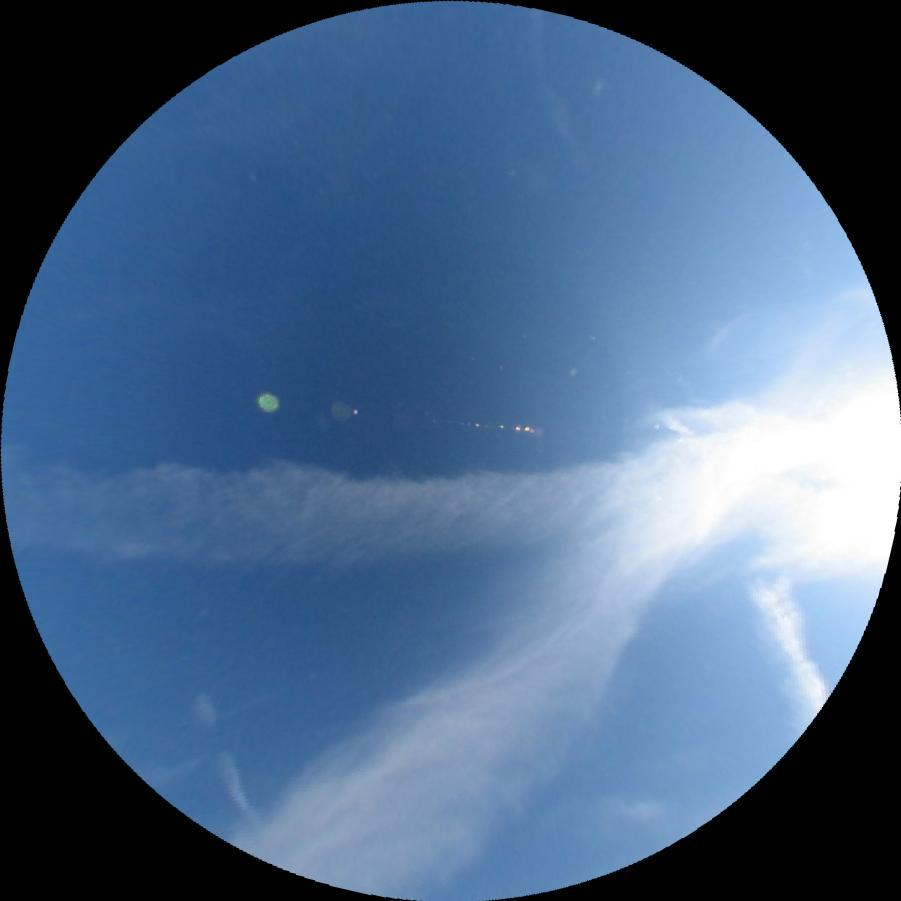contrail veryold: (1, 427, 901, 582), (745, 567, 843, 713)
unknow: (187, 693, 263, 834)
